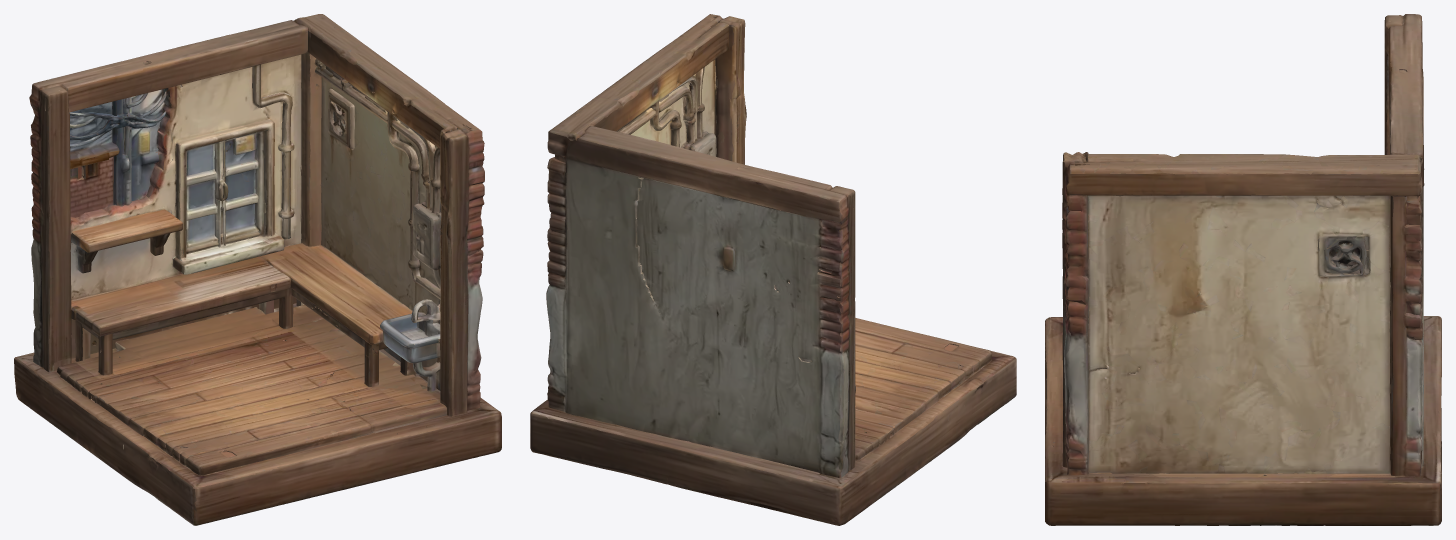
File: room-shop.glb
3 renders of one model, left to right at view 1: azimuth 30°, elevation 25°; view 2: azimuth 150°, elevation 25°; view 3: azimuth 270°, elevation 25°, orthographic. The views are drawn at different scales.
Parts seen in each view (by area): view 1: geometry_0; view 2: geometry_0; view 3: geometry_0.
Part boxes in pixels (x1,y1,x2,y2): geometry_0: (14,14,501,525); geometry_0: (530,14,1016,525); geometry_0: (1045,14,1441,525).
Bounding box in the file's own units: 0.3 × 0.2947 × 0.3.
1 material, 1 textured.
